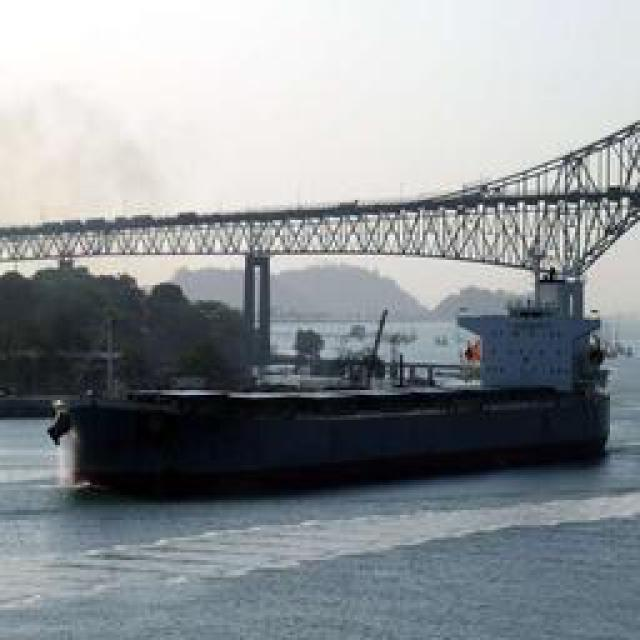Ship: (45, 244, 619, 506)
